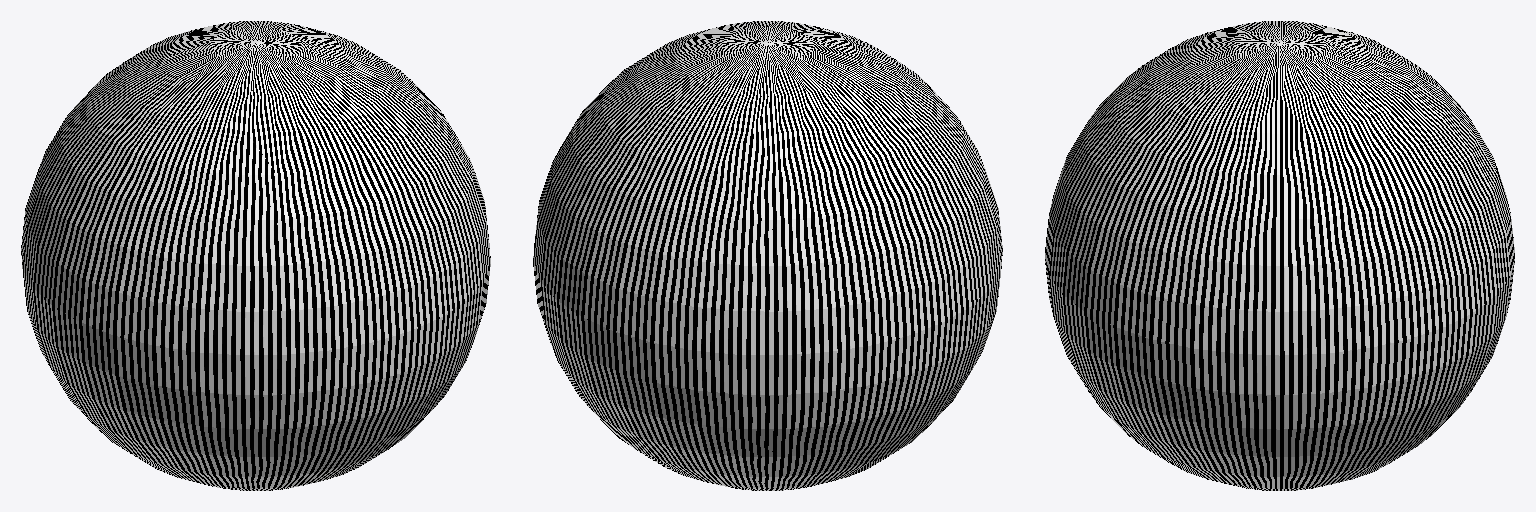
3 views of the same model, side by side, from view 1: azimuth 30°, elevation 25°; view 2: azimuth 150°, elevation 25°; view 3: azimuth 270°, elevation 25° (orthographic).
Parts seen in each view (by area): view 1: Sphere; view 2: Sphere; view 3: Sphere.
Part boxes in pixels (x1,y1,x2,y2): Sphere: (21, 21, 490, 490); Sphere: (533, 21, 1002, 490); Sphere: (1045, 21, 1514, 490).
Size of the model in its own units: 1.17 by 1.17 by 1.17.
Materials: 1 (1 with a texture image).